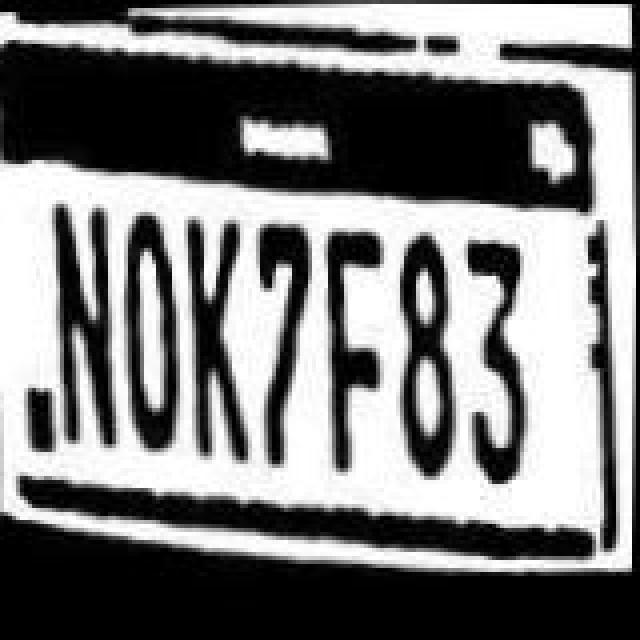3: (456, 222, 532, 490)
7: (250, 224, 318, 472)
8: (396, 224, 464, 476)
F: (320, 222, 392, 466)
K: (180, 214, 252, 470)
N: (44, 192, 124, 448)
O: (118, 202, 186, 450)
